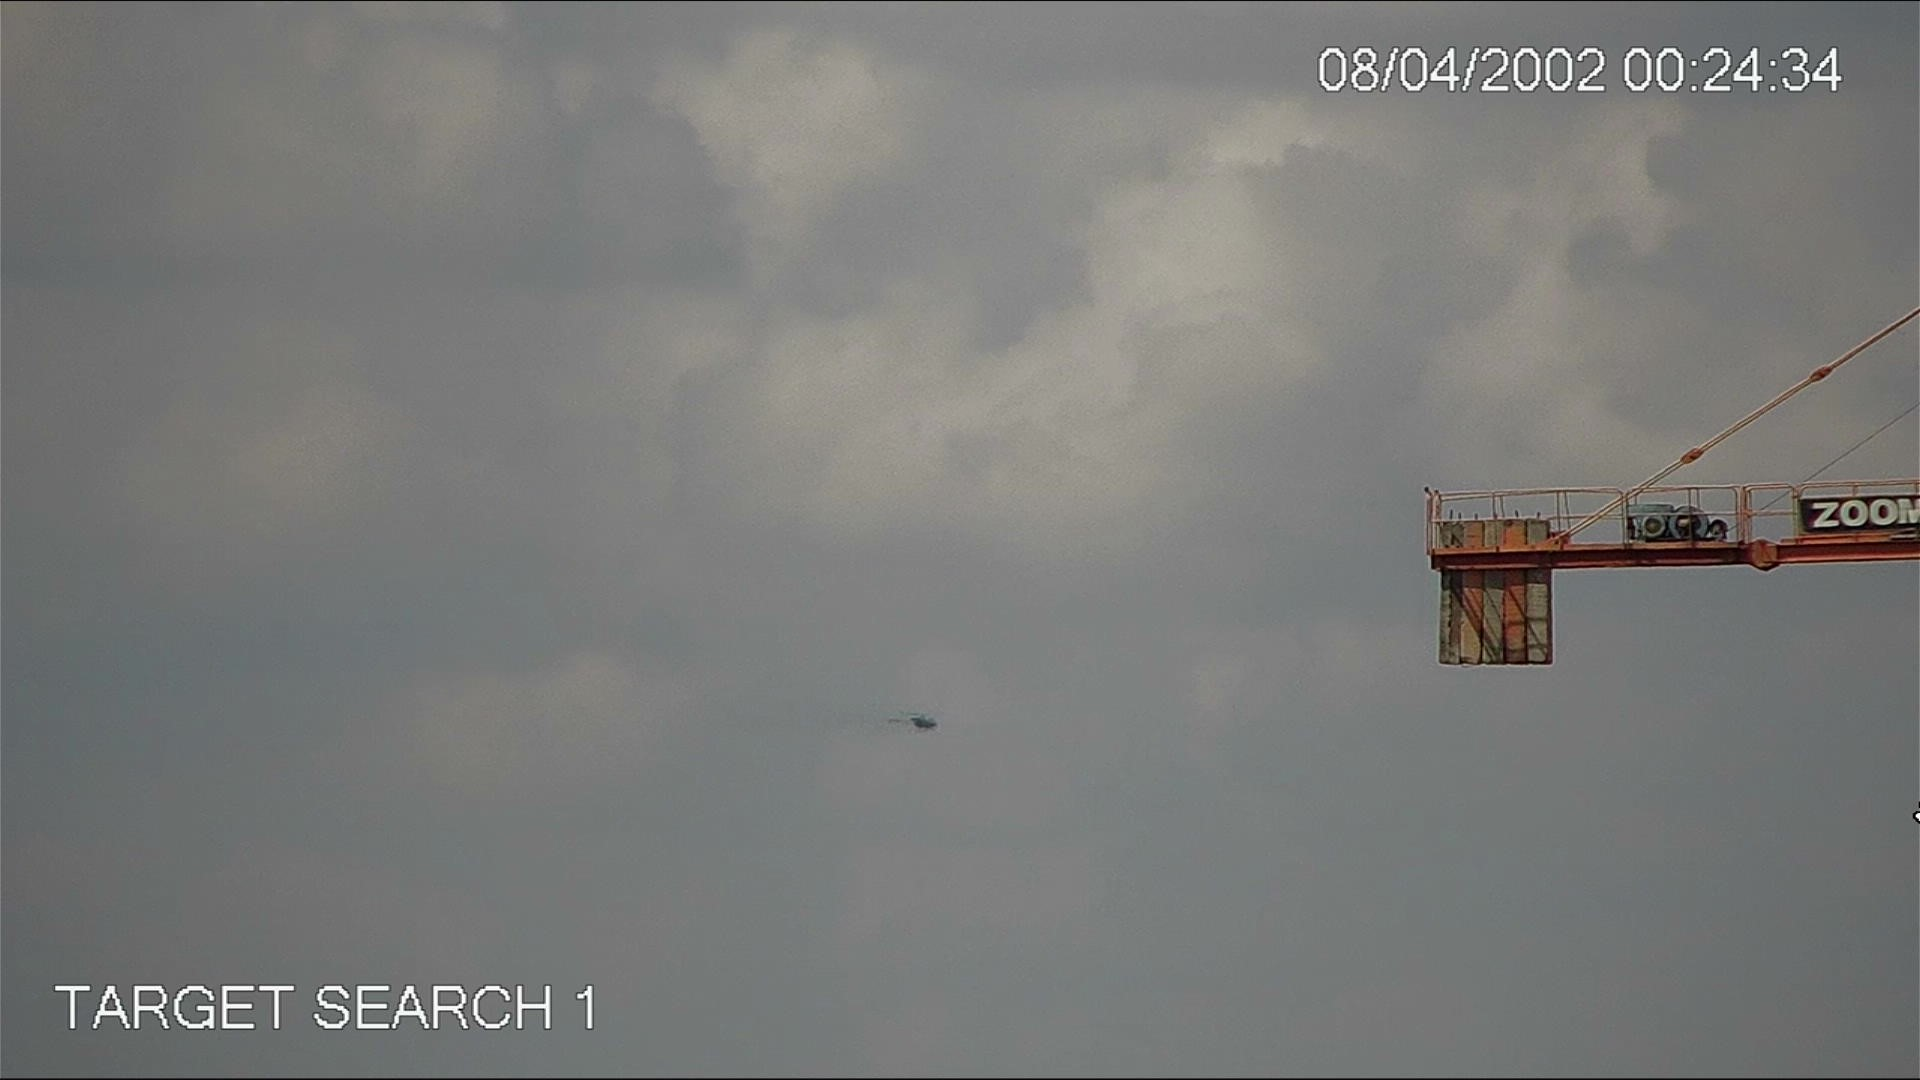SU_30: (885, 707, 943, 736)
